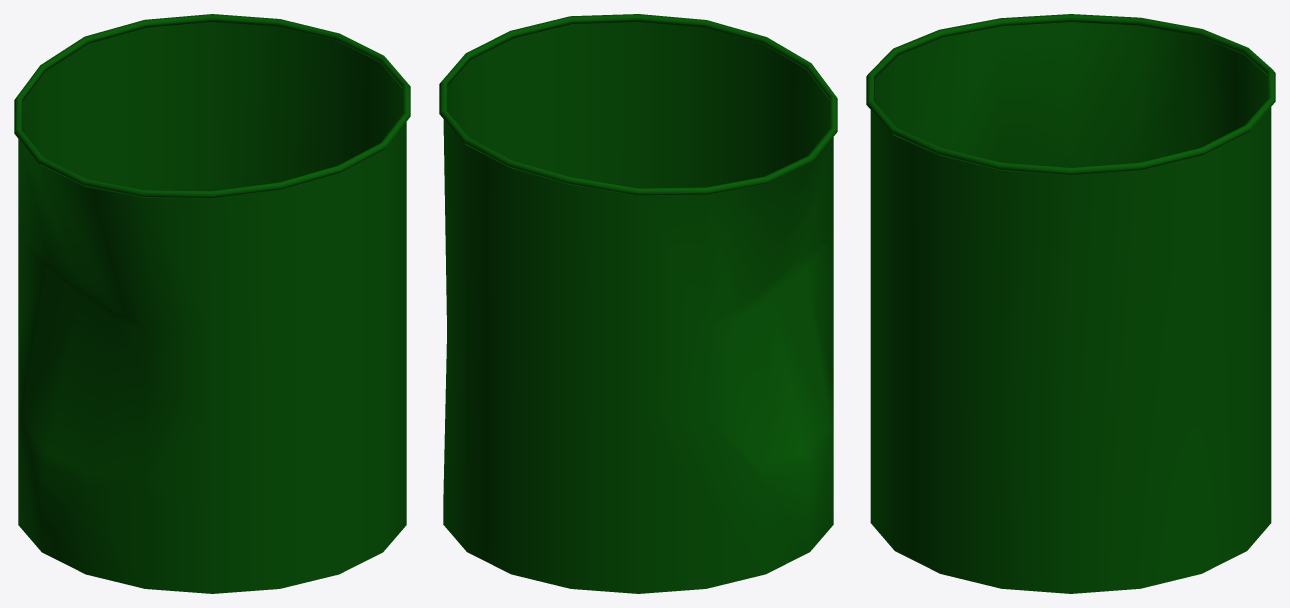
File: jug08.FBX
3 views of the same model, side by side, from view 1: azimuth 30°, elevation 25°; view 2: azimuth 150°, elevation 25°; view 3: azimuth 270°, elevation 25° (orthographic). The views are drawn at different scales.
Visible parts, largest first — view 1: SM_jug08_0; view 2: SM_jug08_0; view 3: SM_jug08_0.
Part boxes in pixels (left/top/right/bottom): SM_jug08_0: left=14, top=14, right=410, bottom=593; SM_jug08_0: left=439, top=14, right=837, bottom=593; SM_jug08_0: left=866, top=14, right=1275, bottom=593.
Size of the model in its own units: 29.13 by 28.69 by 32.95.
